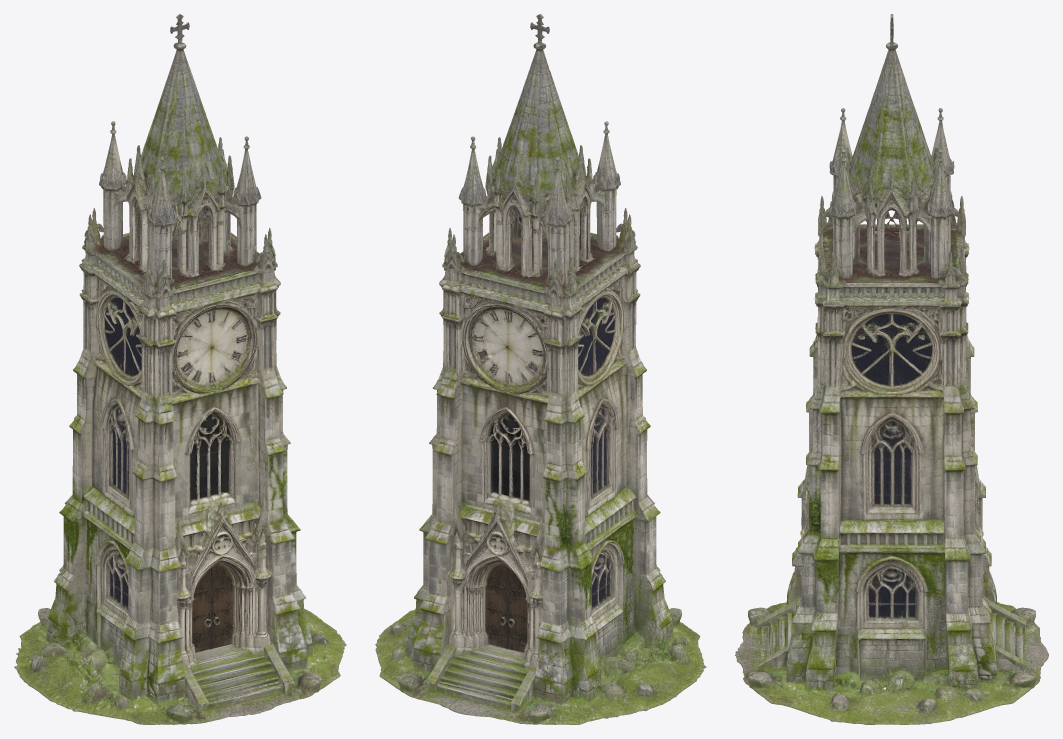
The model's file is clock-tower.glb.
3 renders of one model, left to right at view 1: azimuth 30°, elevation 25°; view 2: azimuth 150°, elevation 25°; view 3: azimuth 270°, elevation 25°, orthographic.
Parts seen in each view (by area): view 1: Mesh_0; view 2: Mesh_0; view 3: Mesh_0.
Boxes of the visible parts, x1=… form: Mesh_0: x1=14, y1=14, x2=346, y2=724; Mesh_0: x1=375, y1=14, x2=706, y2=724; Mesh_0: x1=735, y1=14, x2=1048, y2=724.
Size of the model in its own units: 0.8889 by 1.9 by 0.8431.
Materials: 1 (1 with a texture image).
